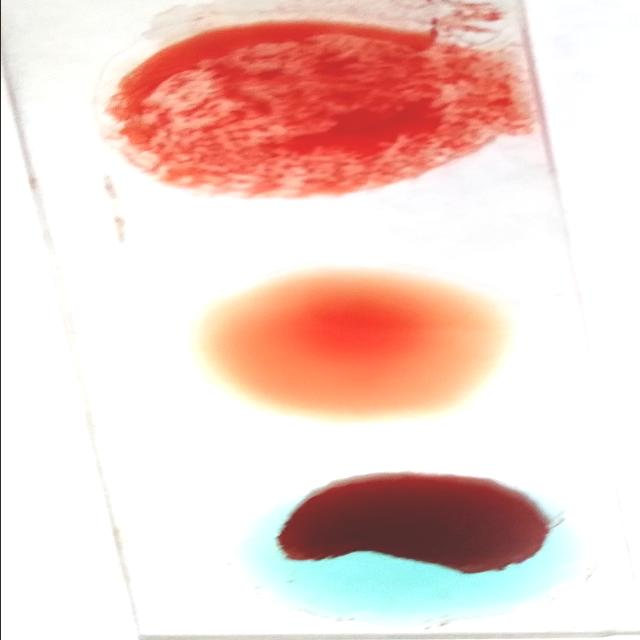A: (208, 469, 592, 618)
D: (88, 23, 510, 204)
